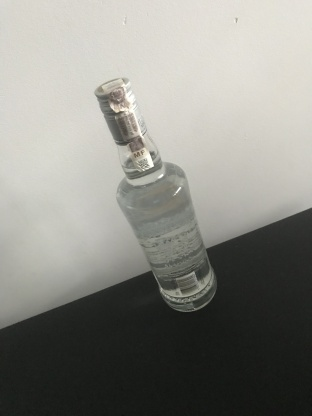nakretka: (92, 75, 147, 146)
